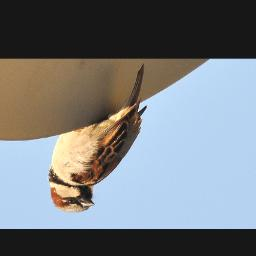Swallow: (47, 64, 147, 212)
